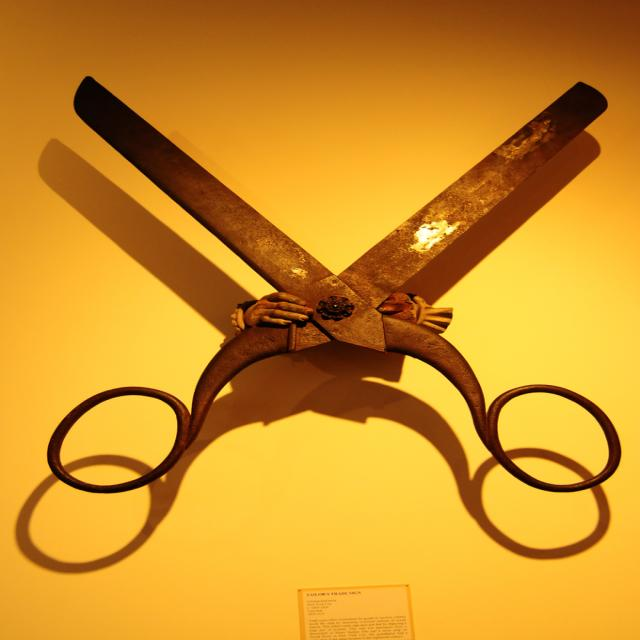scissors: (50, 55, 640, 509)
